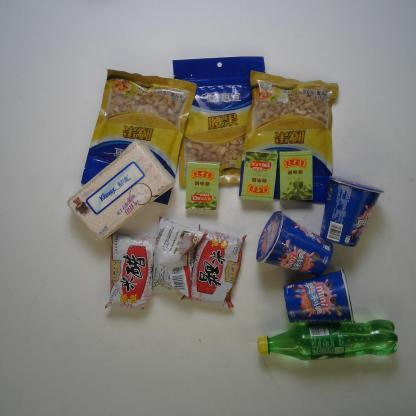Candy: (239, 150, 280, 203), (278, 149, 315, 203), (184, 158, 221, 211)
Dessert: (255, 210, 335, 276), (319, 174, 385, 247), (282, 267, 356, 326)
Dried Fruit: (80, 67, 198, 206), (237, 69, 340, 205), (170, 55, 266, 187)
Drink: (255, 318, 399, 362)
Seasoner: (180, 224, 247, 309), (151, 216, 208, 301), (104, 232, 156, 312)
Tissue: (65, 138, 176, 242)
